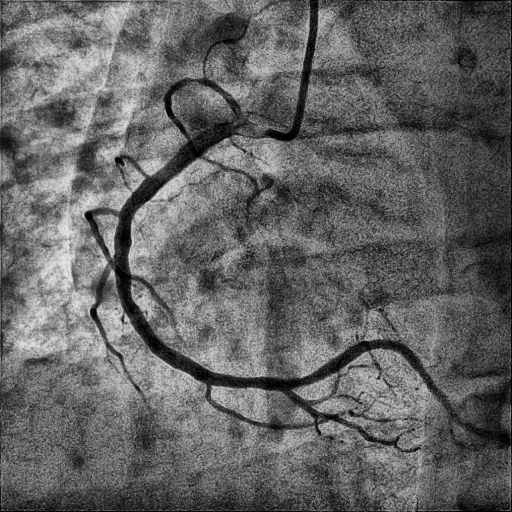pborca: (284, 339, 452, 413)
pda: (281, 389, 397, 445)
rca: (115, 123, 283, 391)
